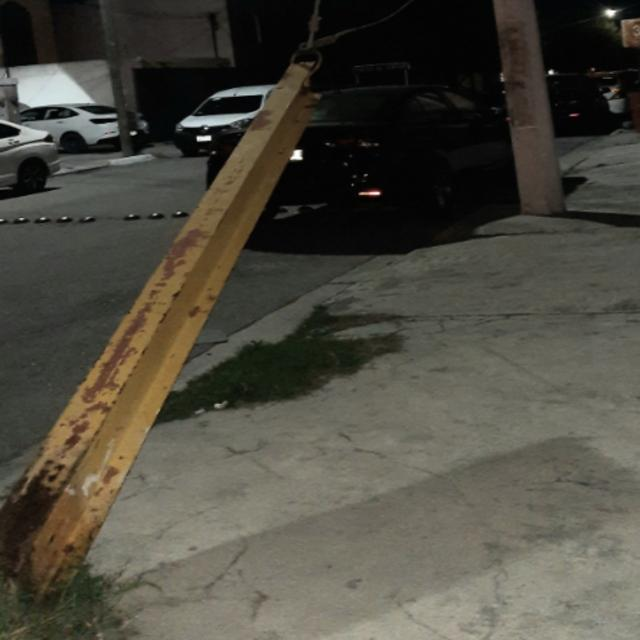Inclined Pole: (0, 55, 320, 615)
